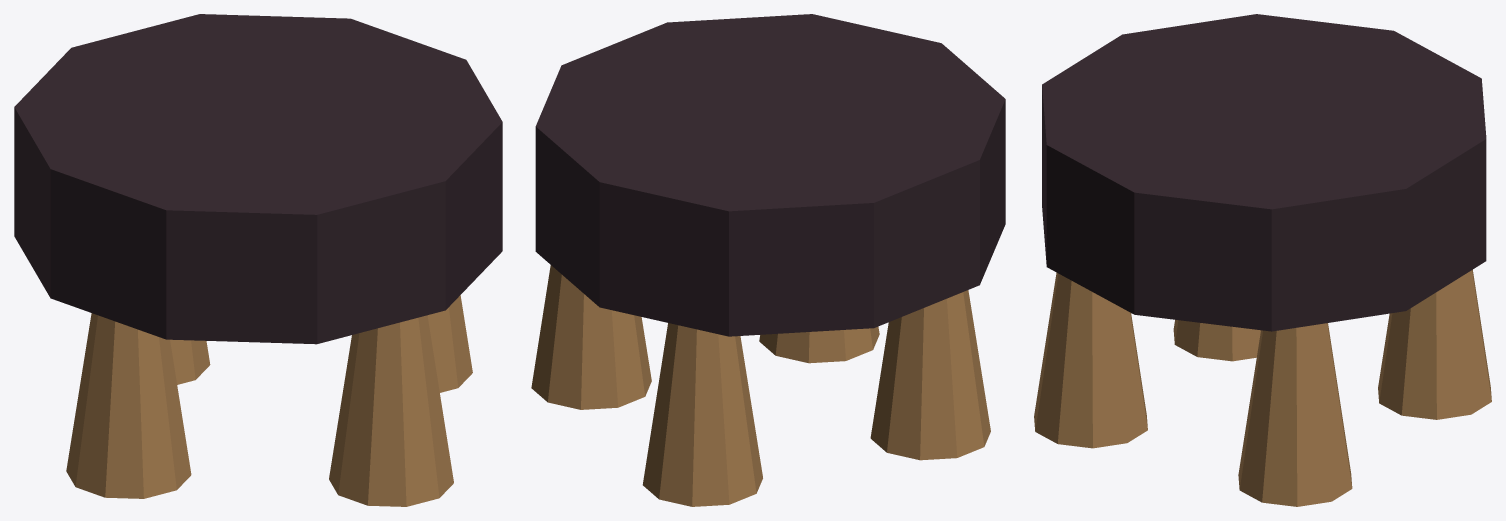
The model's file is LCbanquinho.fbx.
3 renders of one model, left to right at view 1: azimuth 30°, elevation 25°; view 2: azimuth 150°, elevation 25°; view 3: azimuth 270°, elevation 25°, orthographic. The views are drawn at different scales.
Visible parts, largest first — view 1: Cylinder.010; view 2: Cylinder.010; view 3: Cylinder.010.
Part boxes in pixels (box(x1,y1,x2,y2)): Cylinder.010: box(14, 14, 502, 506); Cylinder.010: box(531, 14, 1005, 506); Cylinder.010: box(1034, 14, 1491, 506).
Size of the model in its own units: 171 by 116 by 165.
